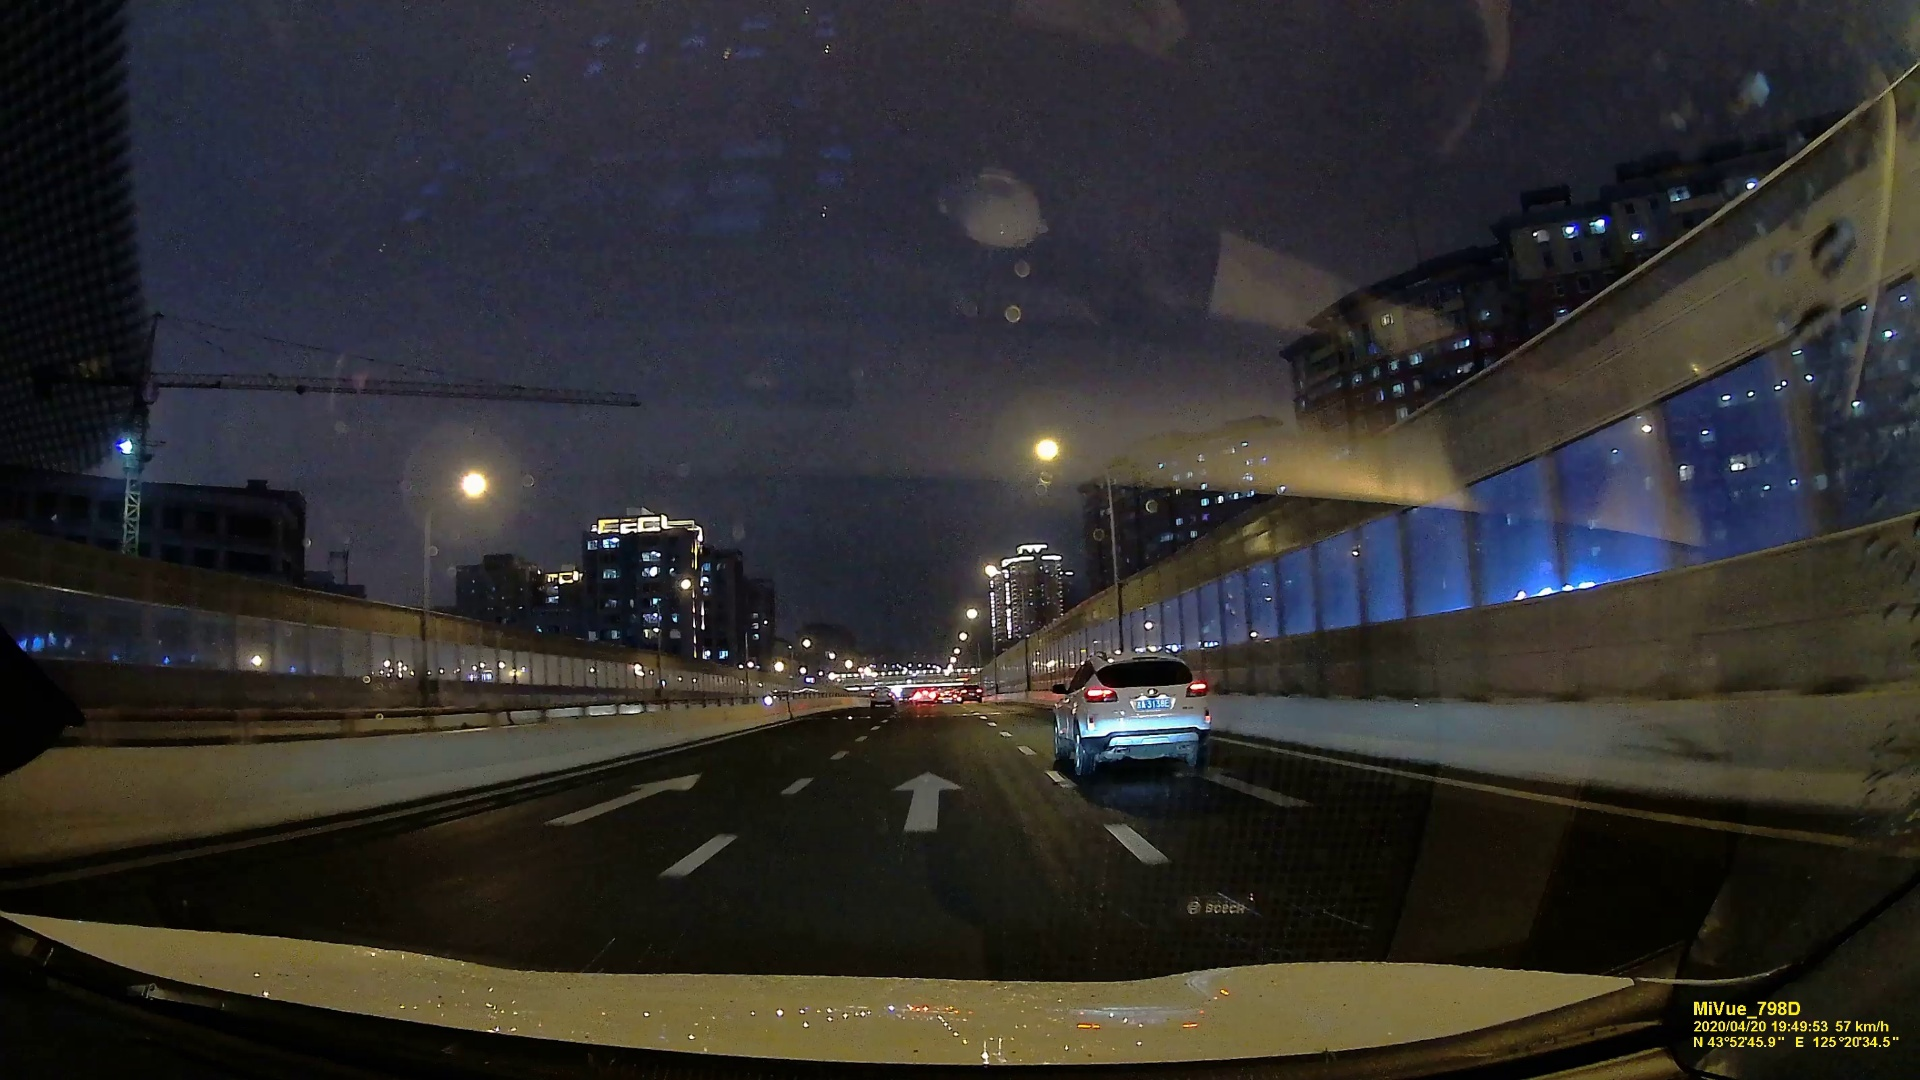vehicle: (1051, 649, 1212, 778), (868, 686, 895, 709), (960, 683, 984, 704)
